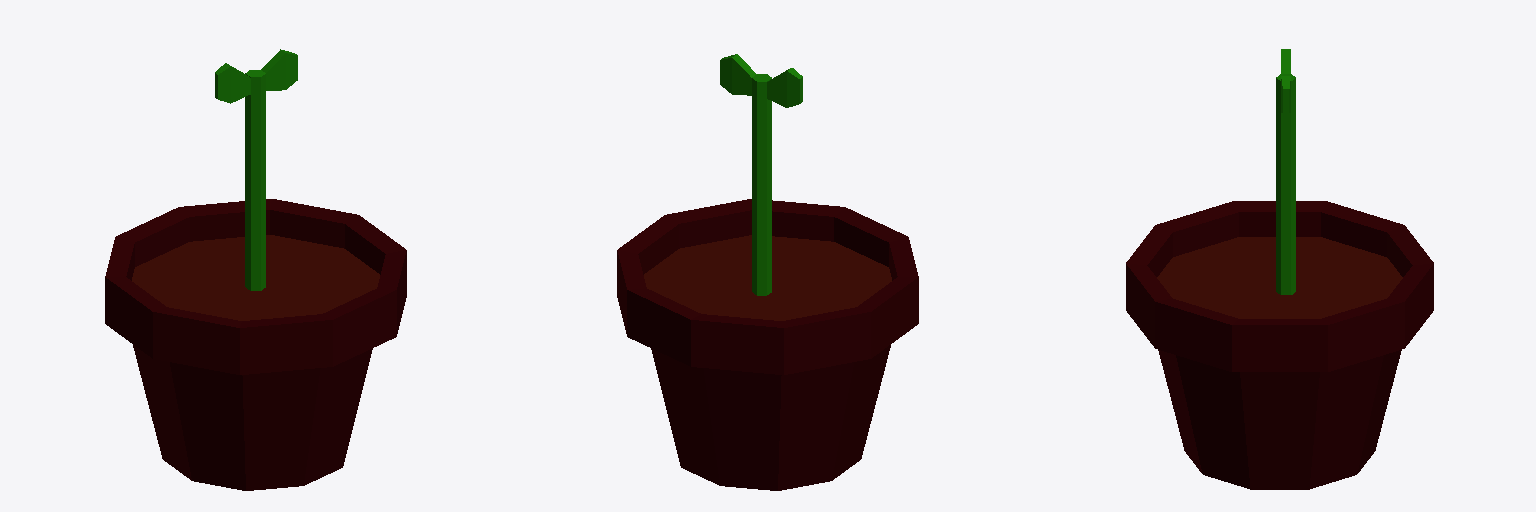
File: pig.obj
3 views of the same model, side by side, from view 1: azimuth 30°, elevation 25°; view 2: azimuth 150°, elevation 25°; view 3: azimuth 270°, elevation 25° (orthographic).
Visible parts, largest first — view 1: Cube; view 2: Cube; view 3: Cube.
Part boxes in pixels (bbox=[...]): Cube: bbox=[105, 49, 406, 490]; Cube: bbox=[617, 54, 918, 490]; Cube: bbox=[1126, 49, 1433, 489].
Size of the model in its own units: 1.46 by 2.14 by 1.53.